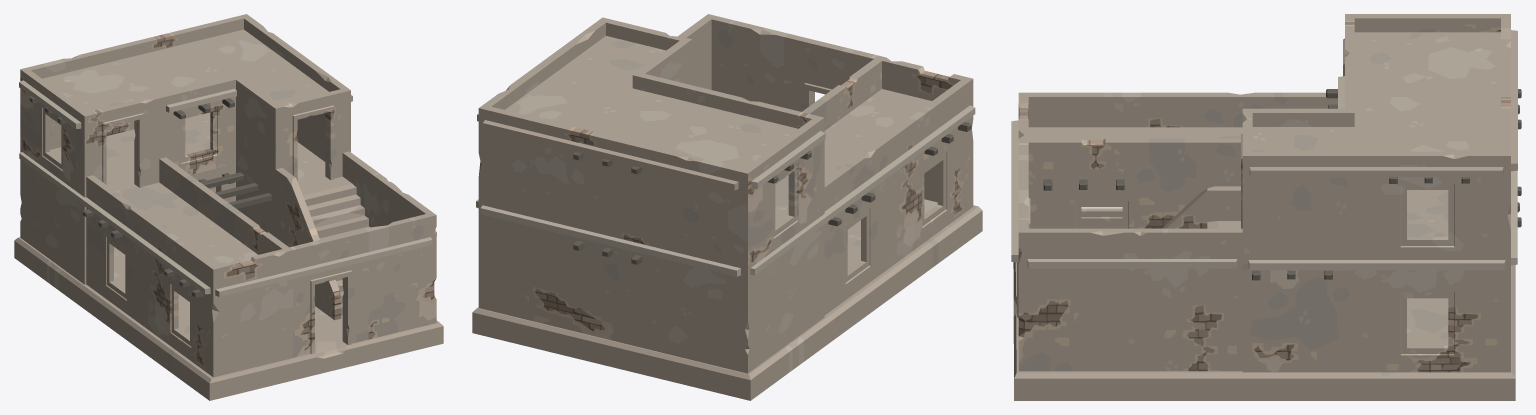
File: SM_Bld_Village_House_01.glb
3 renders of one model, left to right at view 1: azimuth 30°, elevation 25°; view 2: azimuth 150°, elevation 25°; view 3: azimuth 270°, elevation 25°, orthographic. The views are drawn at different scales.
Parts seen in each view (by area): view 1: SM_Bld_Village_House_01; view 2: SM_Bld_Village_House_01; view 3: SM_Bld_Village_House_01.
Part boxes in pixels (<box>): SM_Bld_Village_House_01: <box>14,14,443,400</box>; SM_Bld_Village_House_01: <box>472,14,982,400</box>; SM_Bld_Village_House_01: <box>1011,14,1521,400</box>.
Bounding box in the file's own units: 8.96 × 6.74 × 12.84.
Materials: 1 (1 with a texture image).
